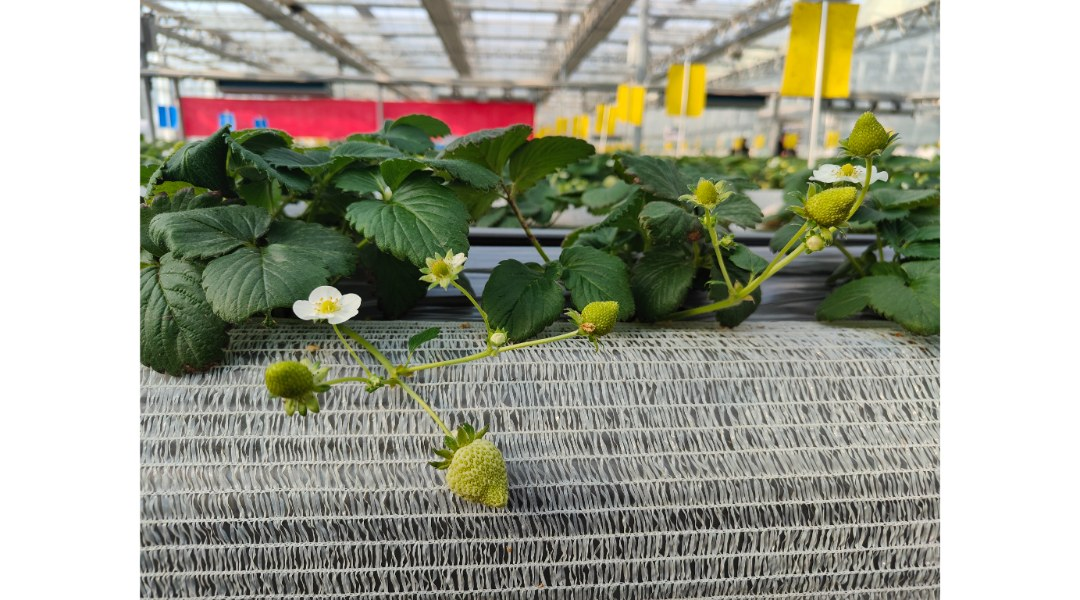berry: (431, 419, 520, 514), (823, 108, 901, 164), (259, 360, 335, 416), (562, 298, 626, 350), (419, 246, 471, 300), (680, 169, 736, 206), (484, 327, 510, 342)
flower: (286, 277, 368, 332), (805, 159, 892, 190)
strain: (749, 246, 803, 299), (399, 386, 450, 439), (415, 353, 492, 373), (515, 333, 576, 358)
